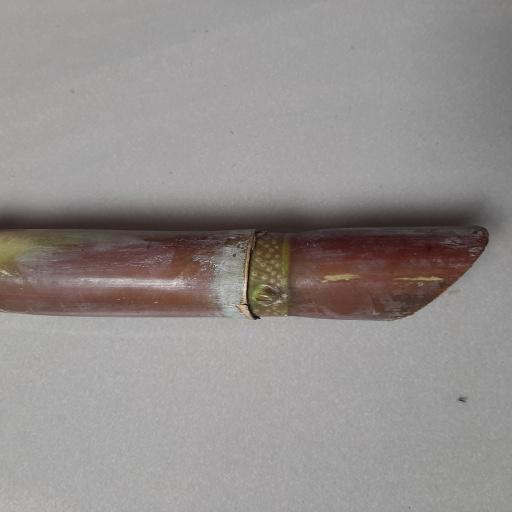Bud: (254, 287, 281, 306)
